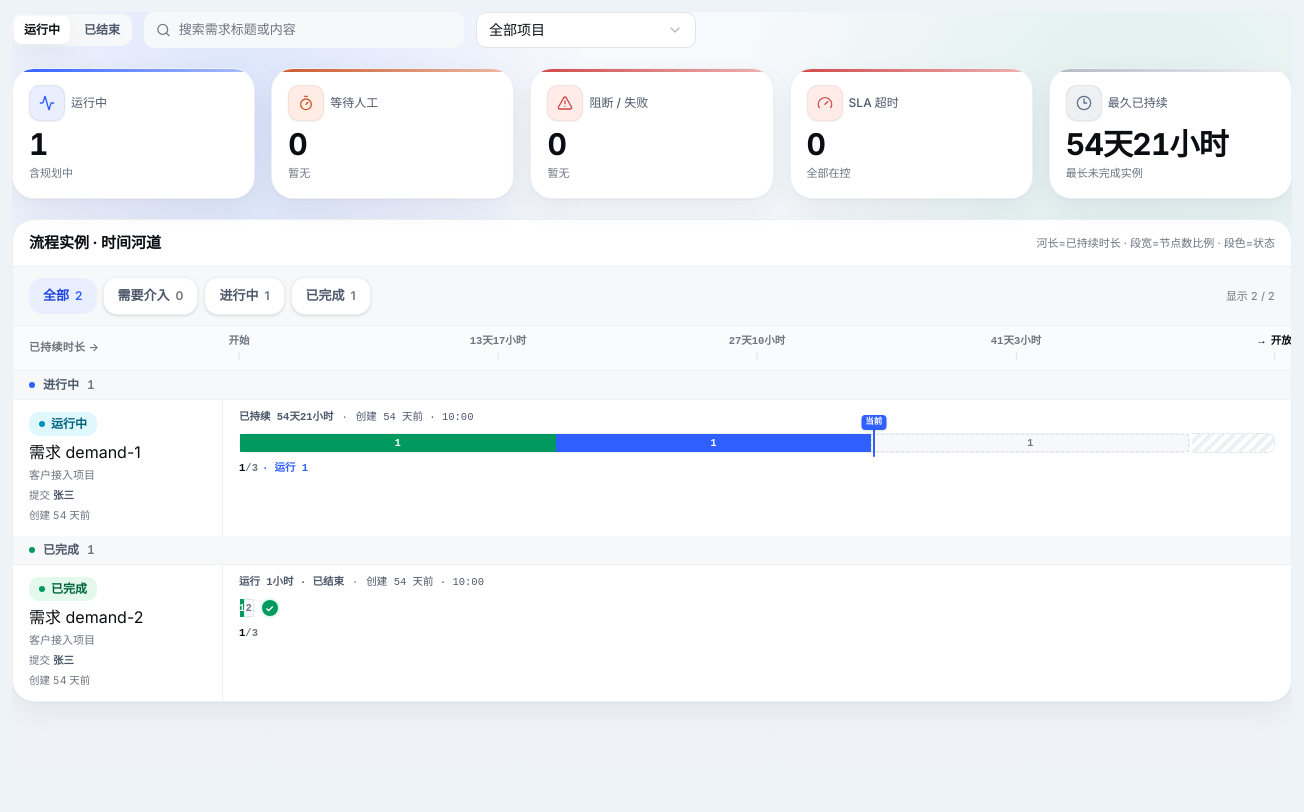
Test case: WorkflowInstancesView server-side filtering › requests scope=archived on the 已结束 tab and restores the completed KPI with ended-view duration copy
Expected: the heading "流程实例 · 时间河道" is shown, [29,232,161,254]
Click the button "已结束" at (102, 30), box [74,16,130,44]
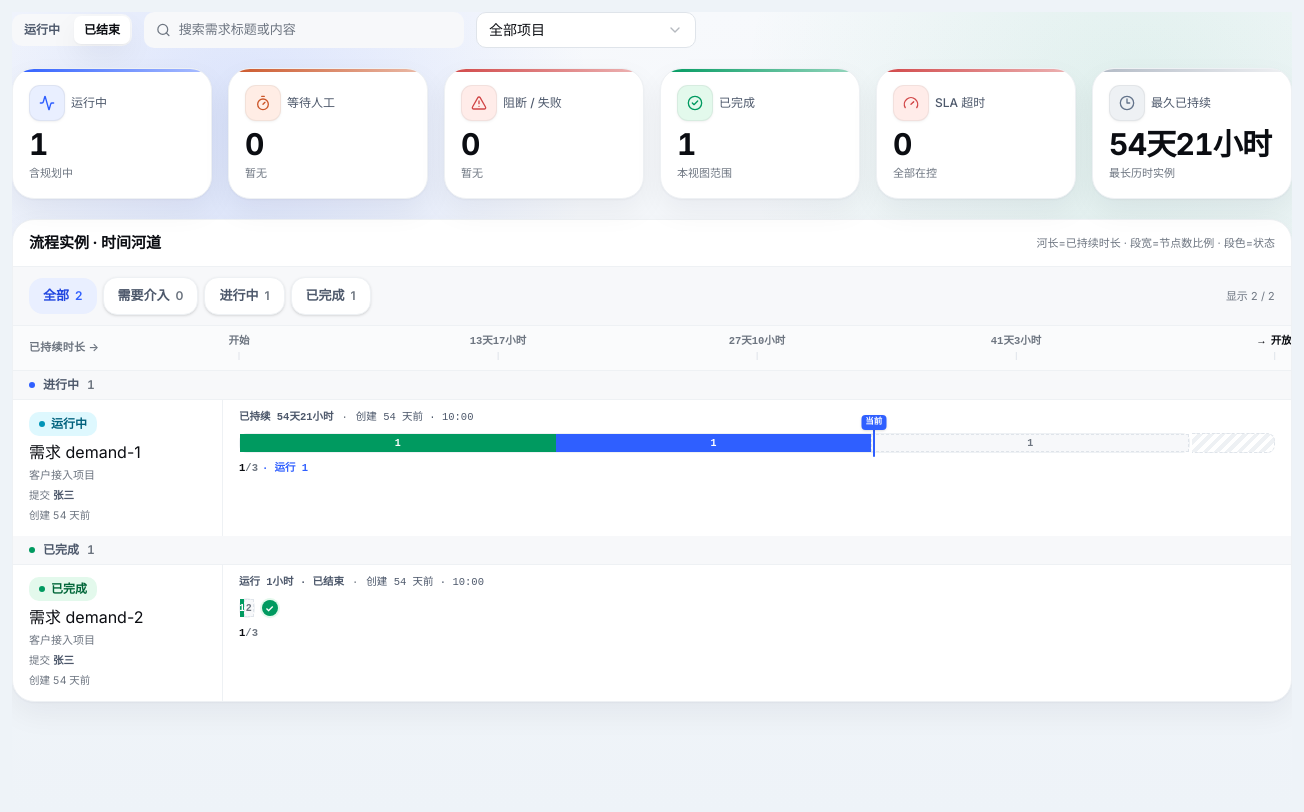
Expected: the text "最长历时实例" is shown, [1109,166,1175,180]
Now the text "本视图范围" is shown, box [677,166,732,180]
